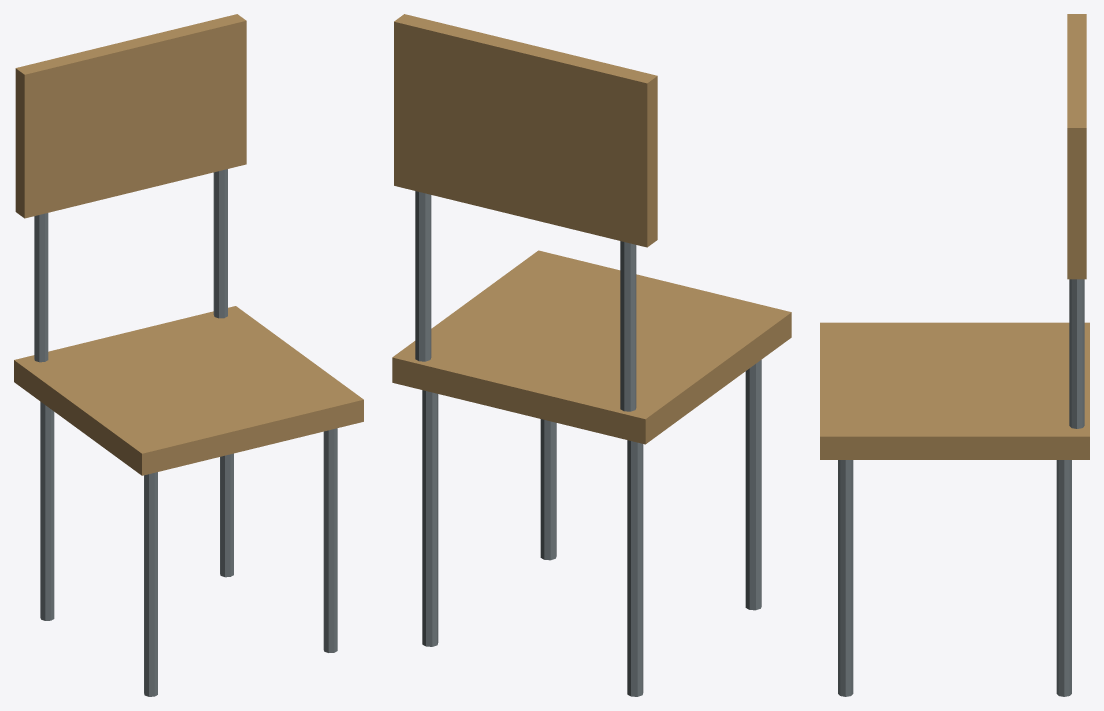
The model's file is prop_chair.glb.
3 views of the same model, side by side, from view 1: azimuth 30°, elevation 25°; view 2: azimuth 150°, elevation 25°; view 3: azimuth 270°, elevation 25° (orthographic). The views are drawn at different scales.
Visible parts, largest first — view 1: Chair; view 2: Chair; view 3: Chair.
Boxes of the visible parts, x1,y1,x2,y2 form: Chair: (14, 14, 363, 696); Chair: (392, 14, 791, 696); Chair: (820, 14, 1089, 696).
Size of the model in its own units: 0.42 by 0.99 by 0.42.
